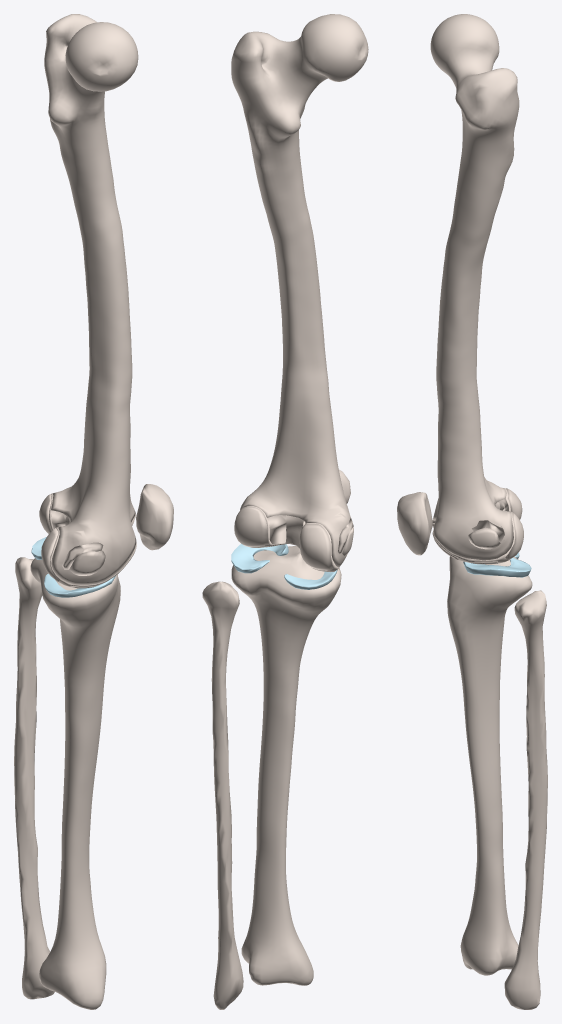
3 views of the same model, side by side, from view 1: azimuth 90°, elevation 25°; view 2: azimuth 150°, elevation 25°; view 3: azimuth 270°, elevation 25° (orthographic). The views are drawn at different scales.
Parts seen in each view (by area): view 1: VH_F_femur_L, VH_F_tibia_L, VH_F_fibula_L, VH_F_patella_L, VH_F_meniscus_L, VH_F_medial_perichondular_surface_L, VH_F_articular_cartilage_of_knee_L, VH_F_medial_condyle_of_left_femur_inf, VH_F_medial_epicondylar_enthesis_L; view 2: VH_F_femur_L, VH_F_tibia_L, VH_F_fibula_L, VH_F_meniscus_L, VH_F_medial_condyle_of_left_femur_inf, VH_F_lateral_condyle_of_femur_inf_L, VH_F_anterior_cruciate_enthesis_L, VH_F_posterior_cruciate_enthesis_L; view 3: VH_F_femur_L, VH_F_tibia_L, VH_F_fibula_L, VH_F_patella_L, VH_F_meniscus_L, VH_F_lateral_perichondular_surface_L, VH_F_articular_cartilage_of_knee_L, VH_F_lateral_condyle_of_femur_inf_L.
Boxes of the visible parts, <box> form: VH_F_femur_L: <box>44,14,138,584</box>; VH_F_tibia_L: <box>30,558,120,1009</box>; VH_F_fibula_L: <box>14,557,54,999</box>; VH_F_patella_L: <box>136,484,173,550</box>; VH_F_meniscus_L: <box>31,537,115,597</box>; VH_F_medial_perichondular_surface_L: <box>69,550,105,575</box>; VH_F_articular_cartilage_of_knee_L: <box>49,493,136,586</box>; VH_F_medial_condyle_of_left_femur_inf: <box>41,528,59,581</box>; VH_F_medial_epicondylar_enthesis_L: <box>62,542,103,569</box>; VH_F_femur_L: <box>231,14,368,567</box>; VH_F_tibia_L: <box>231,546,341,985</box>; VH_F_fibula_L: <box>202,581,243,1009</box>; VH_F_meniscus_L: <box>231,543,337,589</box>; VH_F_medial_condyle_of_left_femur_inf: <box>299,524,333,570</box>; VH_F_lateral_condyle_of_femur_inf_L: <box>234,506,268,547</box>; VH_F_anterior_cruciate_enthesis_L: <box>267,515,286,544</box>; VH_F_posterior_cruciate_enthesis_L: <box>285,515,303,547</box>; VH_F_femur_L: <box>430,14,519,560</box>; VH_F_tibia_L: <box>447,556,532,975</box>; VH_F_fibula_L: <box>504,590,547,1009</box>; VH_F_patella_L: <box>397,492,432,555</box>; VH_F_meniscus_L: <box>463,552,531,577</box>; VH_F_lateral_perichondular_surface_L: <box>468,527,500,549</box>; VH_F_articular_cartilage_of_knee_L: <box>432,488,515,563</box>; VH_F_lateral_condyle_of_femur_inf_L: <box>505,512,523,559</box>.
Bounding box in the file's own units: 0.1016 × 0.7718 × 0.1105.
